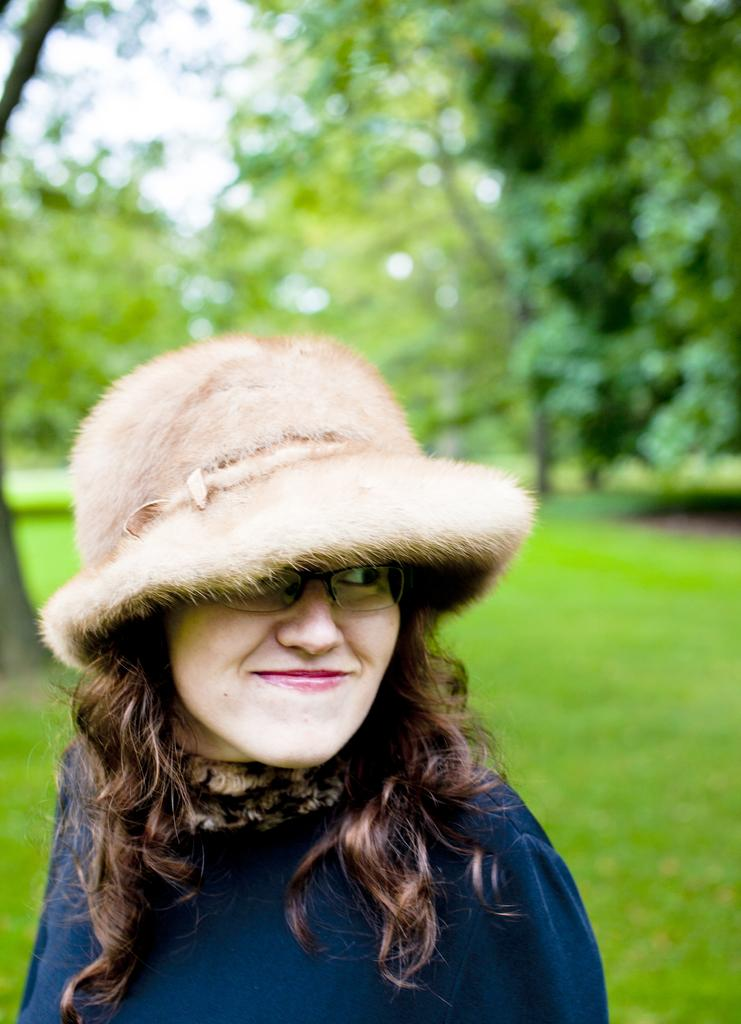Hat: (34, 330, 538, 678)
